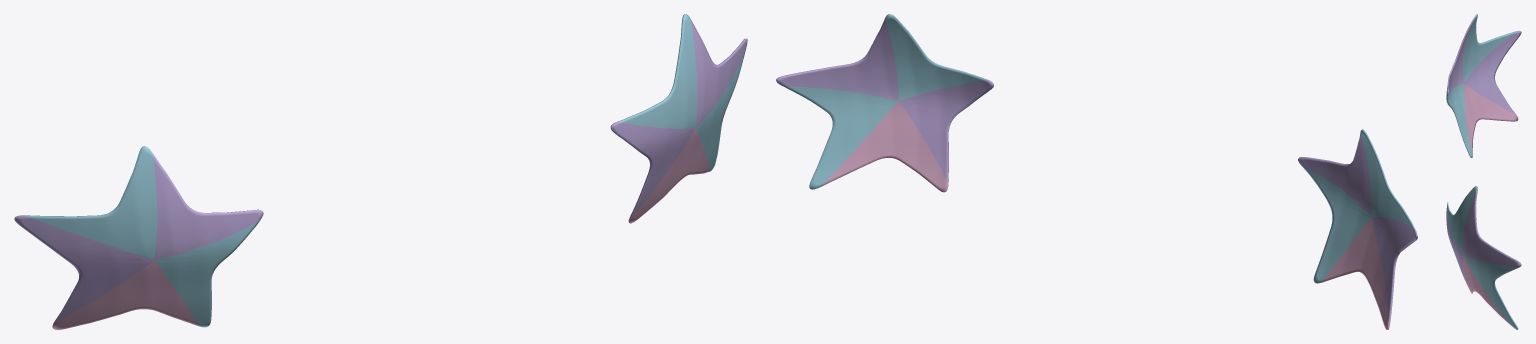
File: Feminine-bandeau-top.glb
3 views of the same model, side by side, from view 1: azimuth 30°, elevation 25°; view 2: azimuth 150°, elevation 25°; view 3: azimuth 270°, elevation 25° (orthographic). The views are drawn at different scales.
Visible parts, largest first — view 1: Top / star pastie192 -1, Top / star pastie192 1; view 2: Top / star pastie192 1, Top / star pastie192 -1; view 3: Top / star pastie192 -1, Top / star pastie192 1.
Boxes of the visible parts, box(x1,y1,x2,y2) form: Top / star pastie192 -1: box(14, 146, 263, 329); Top / star pastie192 1: box(610, 14, 747, 223); Top / star pastie192 1: box(776, 14, 993, 192); Top / star pastie192 -1: box(1298, 129, 1417, 329); Top / star pastie192 -1: box(1446, 14, 1521, 157); Top / star pastie192 1: box(1446, 186, 1521, 329).
Bounding box in the file's own units: 0.417 × 0.1046 × 0.0569.
